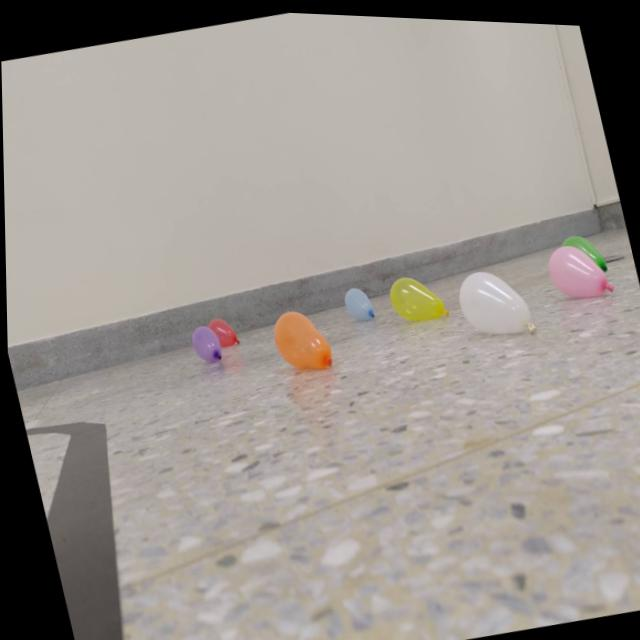other: (450, 255, 536, 344), (267, 299, 334, 372), (542, 230, 612, 296), (385, 264, 449, 323), (558, 222, 606, 273), (185, 319, 223, 364), (340, 281, 376, 320)
red: (205, 312, 239, 347)
